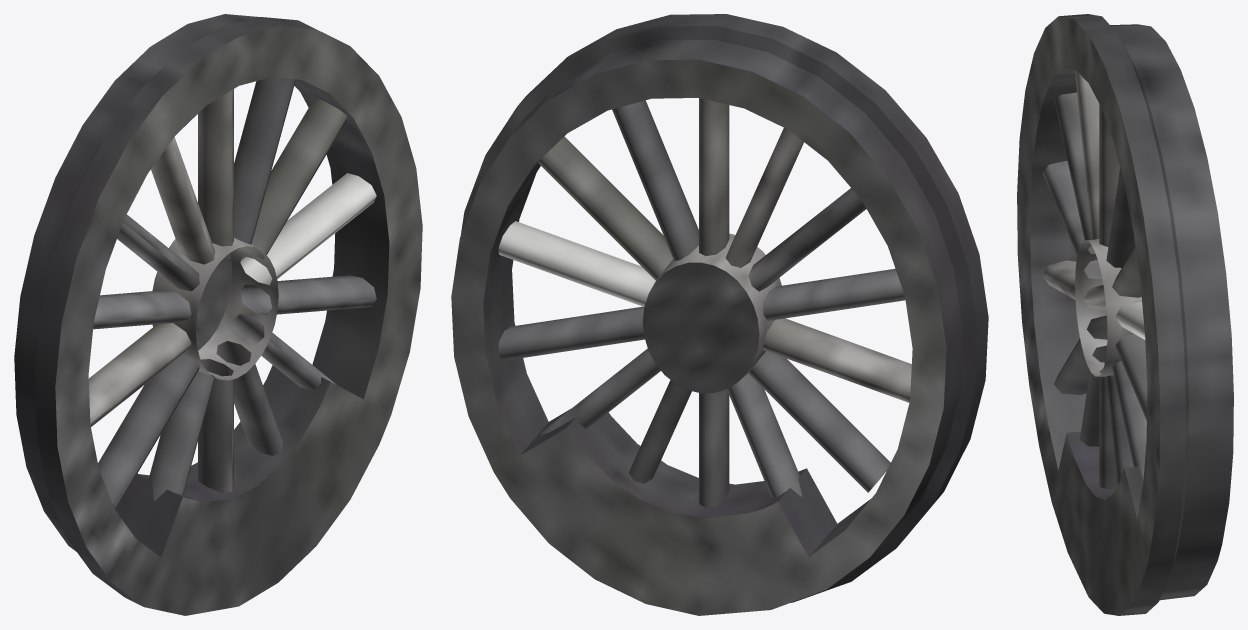
The model's file is LlantaIzq2.obj.
3 renders of one model, left to right at view 1: azimuth 30°, elevation 25°; view 2: azimuth 150°, elevation 25°; view 3: azimuth 270°, elevation 25°, orthographic. The views are drawn at different scales.
Parts seen in each view (by area): view 1: LlantaIzq2; view 2: LlantaIzq2; view 3: LlantaIzq2.
Part boxes in pixels (x1,y1,x2,y2): LlantaIzq2: (14,14,422,615); LlantaIzq2: (451,14,988,615); LlantaIzq2: (1017,14,1233,615).
Size of the model in its own units: 0.3189 by 0.3903 by 0.1364.
Materials: 1 (1 with a texture image).
